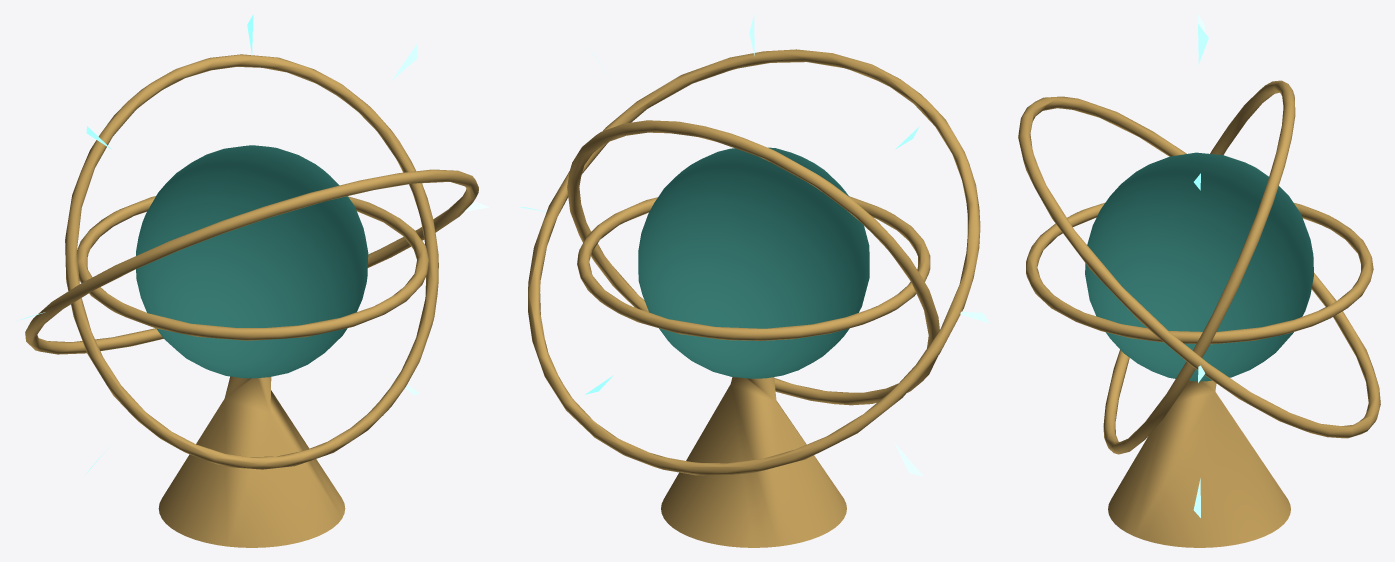
Rendered from thuy-mac-van-thien.glb.
3 renders of one model, left to right at view 1: azimuth 30°, elevation 25°; view 2: azimuth 150°, elevation 25°; view 3: azimuth 270°, elevation 25°, orthographic.
Parts seen in each view (by area): view 1: orb, stand, ring1, ring2, ring0; view 2: orb, stand, ring2, ring1, ring0; view 3: orb, stand, ring2, ring1, ring0.
Part boxes in pixels (x1=…): orb: x1=136, y1=145, x2=368, y2=378; stand: x1=158, y1=376, x2=345, y2=547; ring1: x1=65, y1=54, x2=438, y2=469; ring2: x1=25, y1=169, x2=478, y2=354; ring0: x1=77, y1=196, x2=429, y2=340; orb: x1=638, y1=147, x2=869, y2=378; stand: x1=661, y1=377, x2=846, y2=547; ring2: x1=528, y1=49, x2=980, y2=475; ring1: x1=567, y1=120, x2=939, y2=405; ring0: x1=577, y1=196, x2=930, y2=340; orb: x1=1085, y1=152, x2=1313, y2=381; stand: x1=1108, y1=380, x2=1290, y2=547; ring2: x1=1018, y1=96, x2=1380, y2=438; ring1: x1=1103, y1=80, x2=1295, y2=454; ring0: x1=1026, y1=203, x2=1373, y2=344.
Size of the model in its own units: 0.7041 by 0.7128 by 0.4755.
